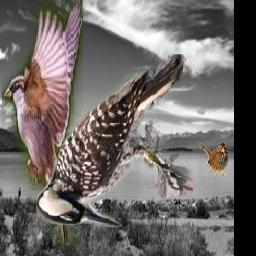Sparrow: (3, 0, 84, 245), (200, 142, 229, 175)
Woodpecker: (35, 54, 193, 227)
